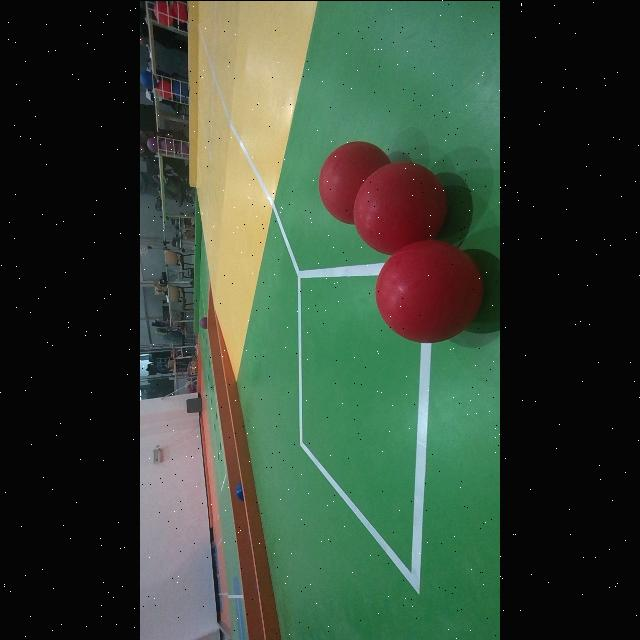R: (376, 238, 484, 342), (356, 159, 449, 253), (318, 140, 384, 224)
S: (143, 1, 199, 30), (148, 74, 194, 100), (157, 138, 195, 164)
